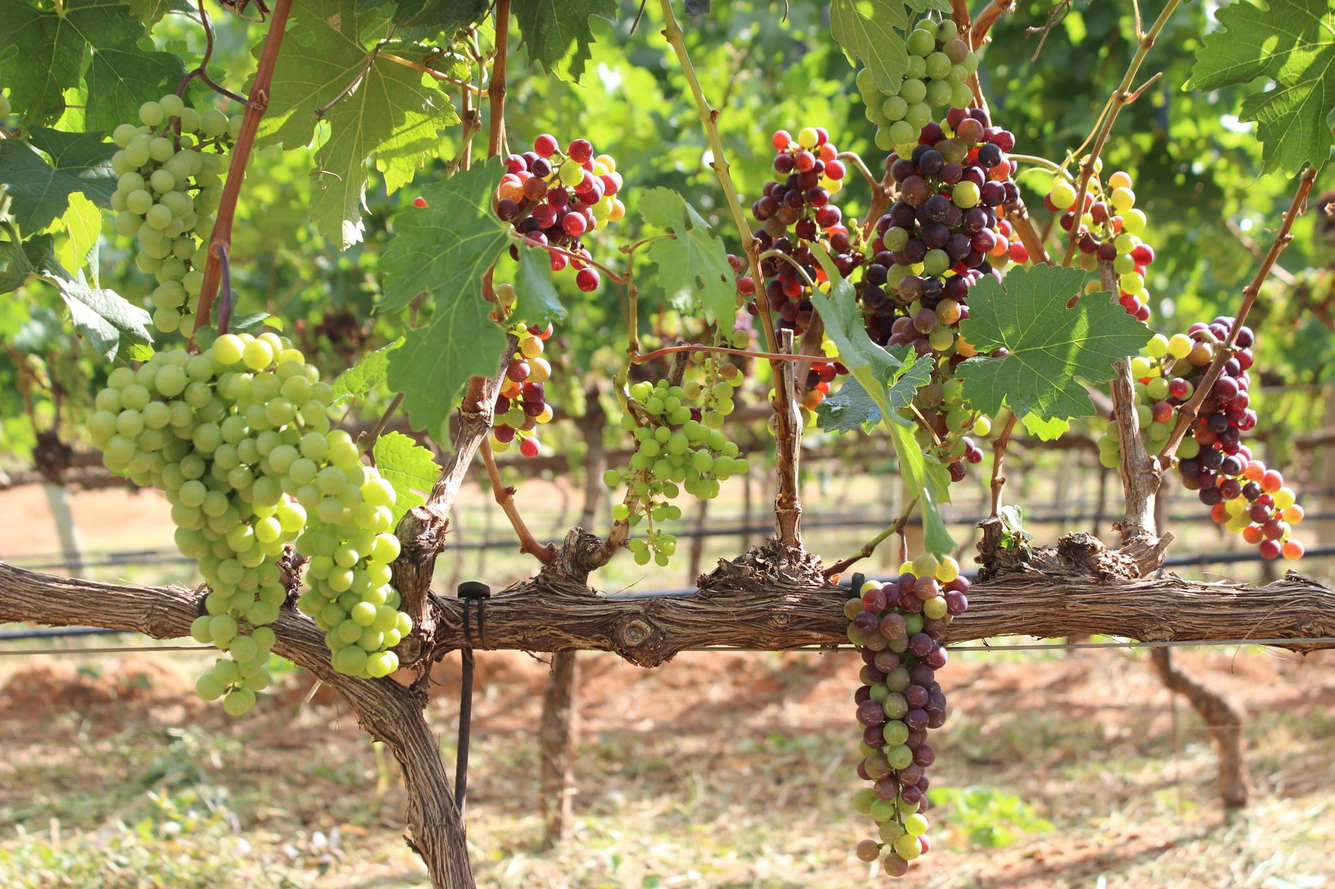Grape Unripe: (79, 347, 296, 712), (270, 328, 416, 680), (107, 89, 239, 339), (598, 374, 737, 559), (855, 14, 975, 168)
